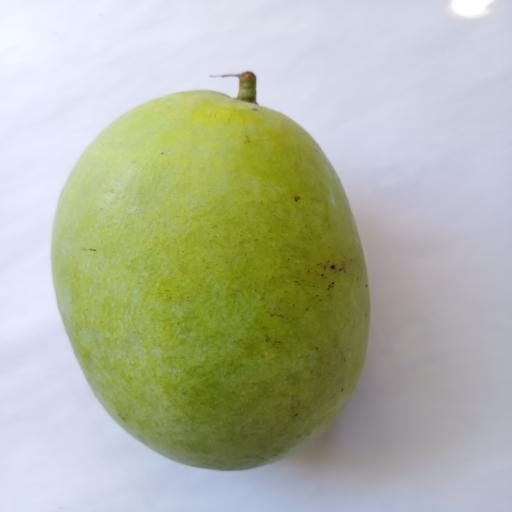mango-unripe: (39, 55, 385, 493)
